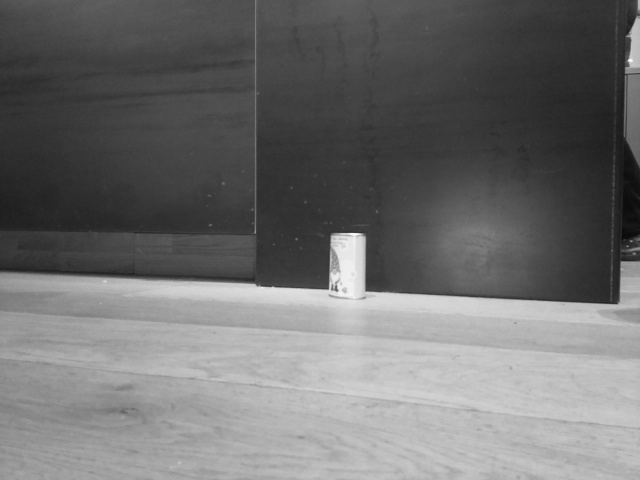gnome: (330, 246, 348, 294)
